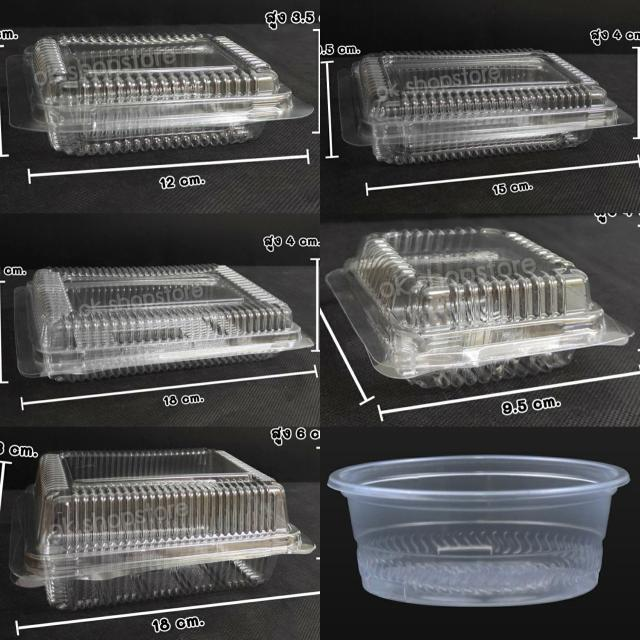plastik: (10, 449, 315, 609), (327, 228, 630, 388), (328, 455, 629, 606), (6, 34, 313, 155), (15, 265, 311, 380), (338, 50, 633, 164)
